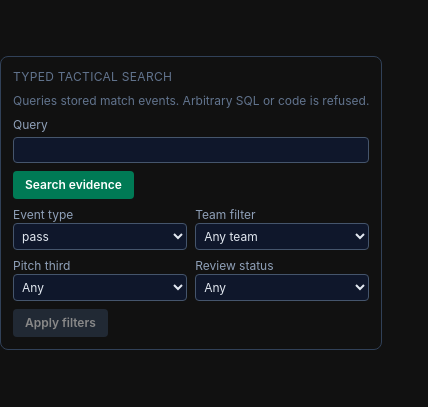
shows calibrated pitch-region filters with partial location coverage
Type "recoveries in the right third" into the field labelled "Query". click: coordinates (191, 150)
box: [13,137,369,163]
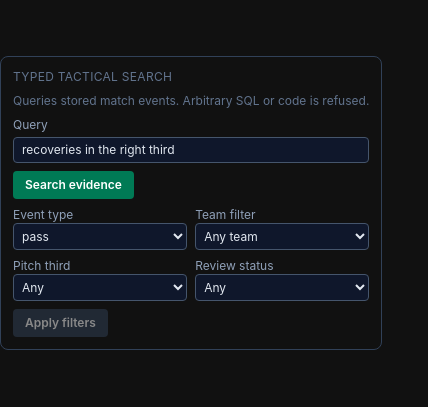
Click the button "Search evidence". click: coordinates (73, 185)
box: [13,171,134,199]
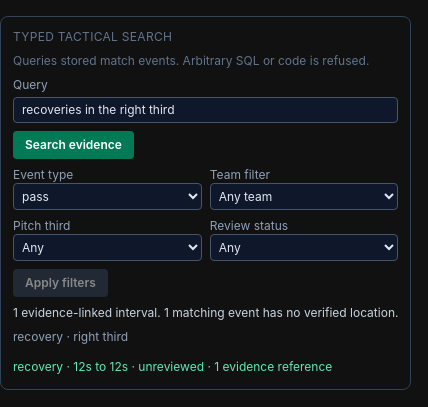
Result: the text named "Interpreted filter" shows "right third" at [13,329,128,344]
Result: the text "1 matching event has no verified location" is shown at [13,305,398,320]
Result: the button "recovery · 12s to 12s · unreviewed · 1 evidence reference" is shown at [13,359,332,375]
Click the button "Search evidence". click: coordinates (73, 145)
box: [13,131,134,159]
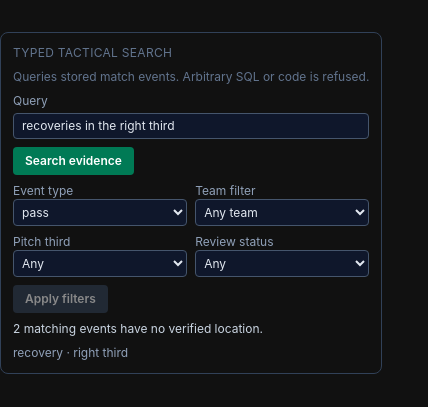
Result: the text "2 matching events have no verified location." is shown at [13,321,263,336]
